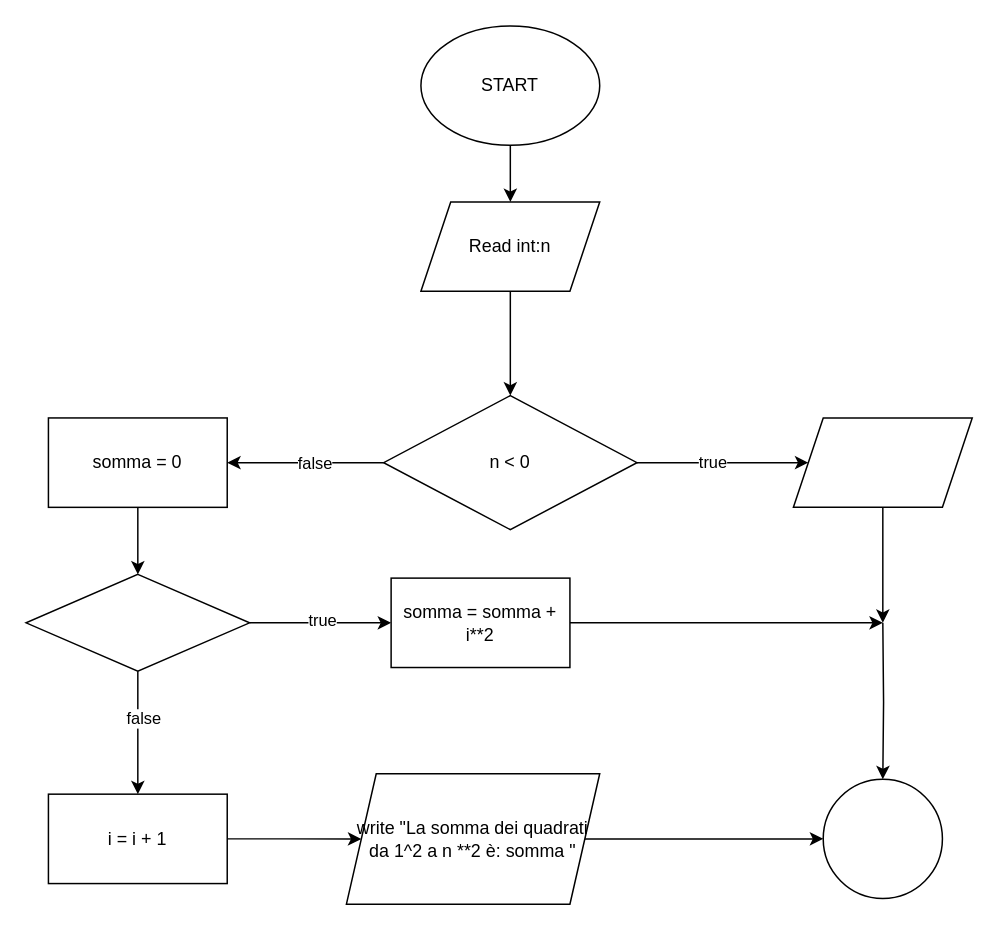
Image size: 998x931. Some labels were removed from this diagram. The centre of each missing label's shape, as x and y in pixels:
END: point (882, 838)
i <= 1: point (137, 622)
write "Error": point (882, 461)
